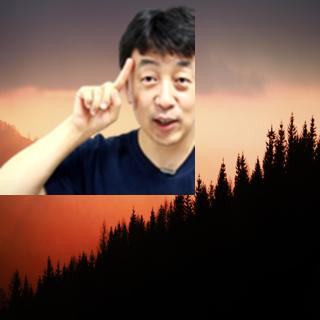IRRITATED: (68, 55, 137, 137)
